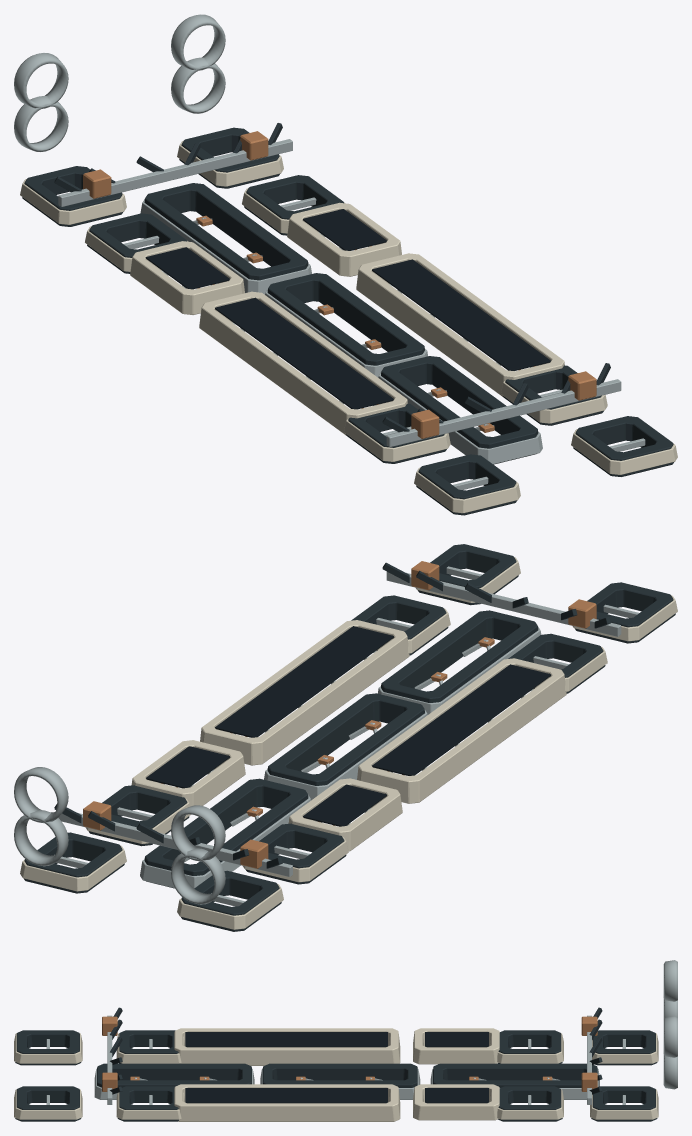
Rendered from ventral-service-insert.glb.
3 renders of one model, top to bottom at view 1: azimuth 30°, elevation 25°; view 2: azimuth 150°, elevation 25°; view 3: azimuth 270°, elevation 25°, orthographic. The views are drawn at different scales.
Parts seen in each view (by area): view 1: loom_carrier_ventral_service_insert__graphite_structural_car, loom_carrier_ventral_service_insert__ceramic_warm_ivory, loom_carrier_ventral_service_insert__titanium_formed_fitting, loom_carrier_ventral_service_insert__interior_deep_graphite, loom_carrier_ventral_service_insert__copper_heat_and_tension; view 2: loom_carrier_ventral_service_insert__graphite_structural_car, loom_carrier_ventral_service_insert__ceramic_warm_ivory, loom_carrier_ventral_service_insert__titanium_formed_fitting, loom_carrier_ventral_service_insert__interior_deep_graphite, loom_carrier_ventral_service_insert__copper_heat_and_tension; view 3: loom_carrier_ventral_service_insert__graphite_structural_car, loom_carrier_ventral_service_insert__ceramic_warm_ivory, loom_carrier_ventral_service_insert__interior_deep_graphite, loom_carrier_ventral_service_insert__titanium_formed_fitting, loom_carrier_ventral_service_insert__copper_heat_and_tension.
Boxes of the visible parts, <box> form: loom_carrier_ventral_service_insert__graphite_structural_car: <box>22,123,673,515</box>; loom_carrier_ventral_service_insert__ceramic_warm_ivory: <box>20,140,677,513</box>; loom_carrier_ventral_service_insert__titanium_formed_fitting: <box>14,14,645,489</box>; loom_carrier_ventral_service_insert__interior_deep_graphite: <box>145,209,550,409</box>; loom_carrier_ventral_service_insert__copper_heat_and_tension: <box>83,131,596,438</box>; loom_carrier_ventral_service_insert__graphite_structural_car: <box>24,544,675,931</box>; loom_carrier_ventral_service_insert__ceramic_warm_ivory: <box>20,557,677,929</box>; loom_carrier_ventral_service_insert__titanium_formed_fitting: <box>14,566,638,906</box>; loom_carrier_ventral_service_insert__interior_deep_graphite: <box>146,626,550,826</box>; loom_carrier_ventral_service_insert__copper_heat_and_tension: <box>83,561,596,868</box>; loom_carrier_ventral_service_insert__graphite_structural_car: <box>15,1007,657,1121</box>; loom_carrier_ventral_service_insert__ceramic_warm_ivory: <box>14,1028,658,1121</box>; loom_carrier_ventral_service_insert__interior_deep_graphite: <box>185,1032,488,1103</box>; loom_carrier_ventral_service_insert__titanium_formed_fitting: <box>46,960,677,1104</box>; loom_carrier_ventral_service_insert__copper_heat_and_tension: <box>102,1016,597,1091</box>.
Bounding box in the file's own units: 124 × 69.4 × 421.
